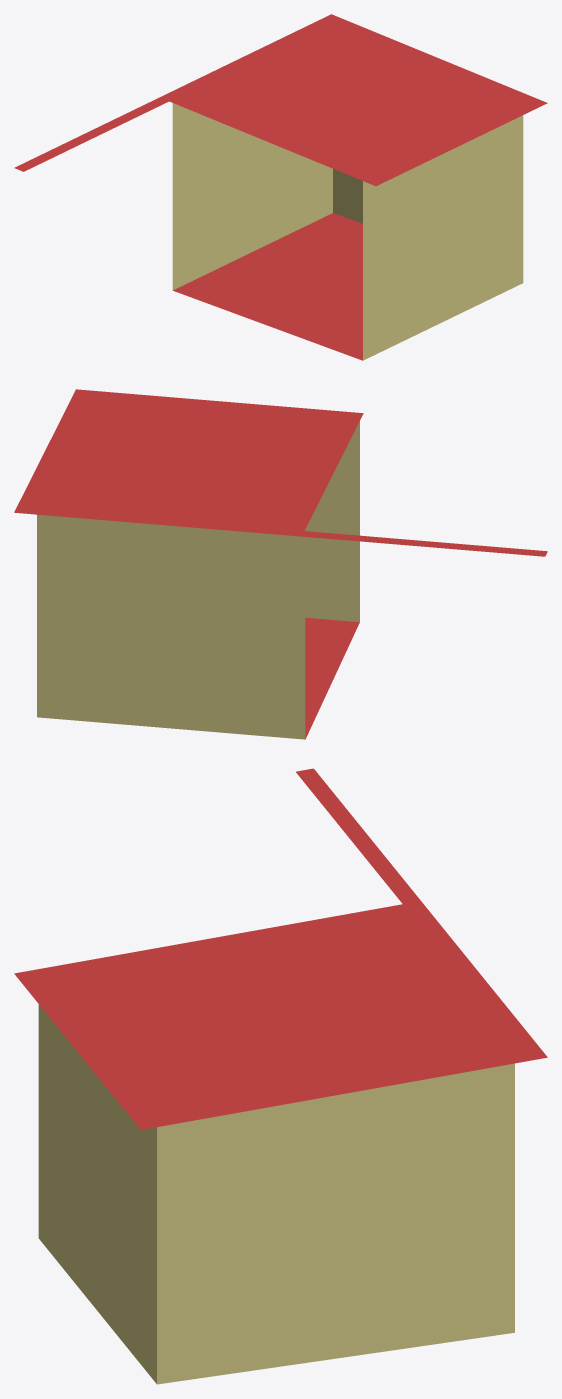
The picture shows the model from 3 angles, top to bottom: view 1: azimuth 30°, elevation 25°; view 2: azimuth 150°, elevation 25°; view 3: azimuth 270°, elevation 25°; orthographic projection. The views are drawn at different scales.
Size of the model in its own units: 15.79 by 10.24 by 5.97.
